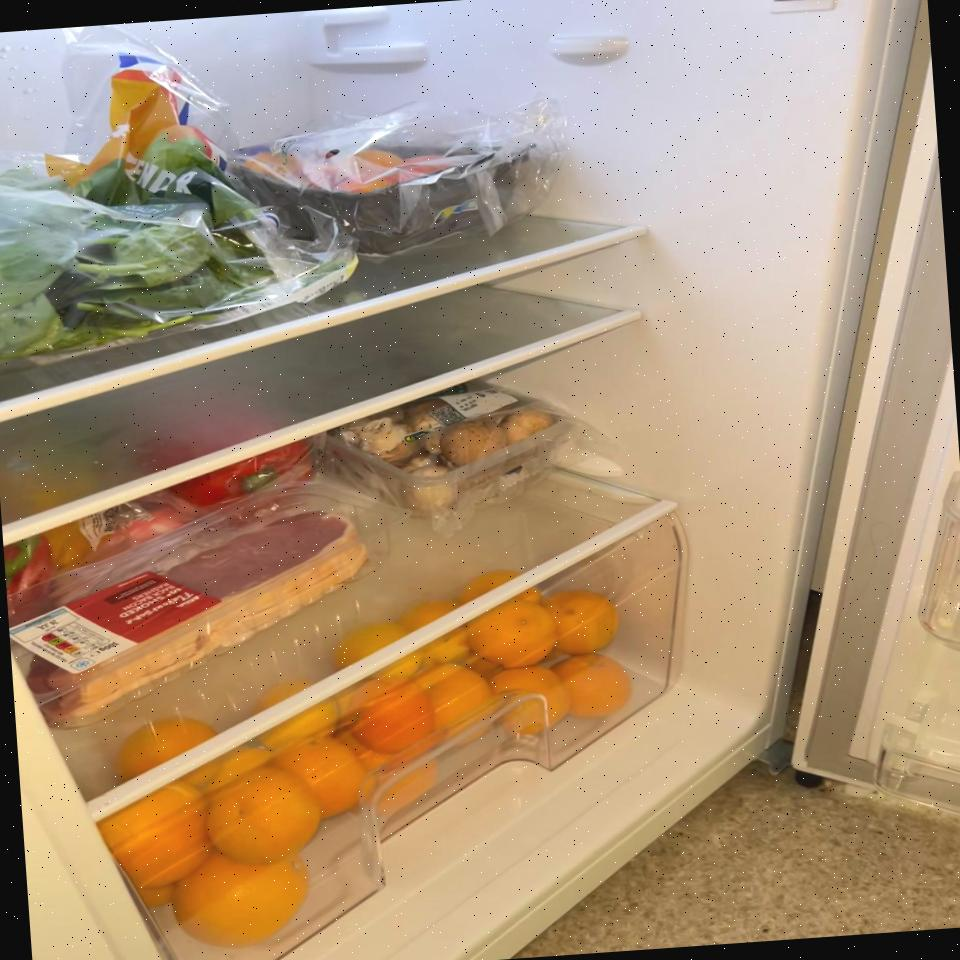bell pepper: (144, 406, 313, 516)
orange: (178, 849, 310, 953), (98, 786, 213, 893), (209, 777, 320, 864), (115, 714, 221, 792), (276, 740, 376, 818), (252, 677, 340, 749), (488, 665, 570, 738), (352, 682, 437, 750), (556, 650, 638, 720), (471, 602, 557, 668), (547, 590, 628, 657), (417, 666, 495, 734)
